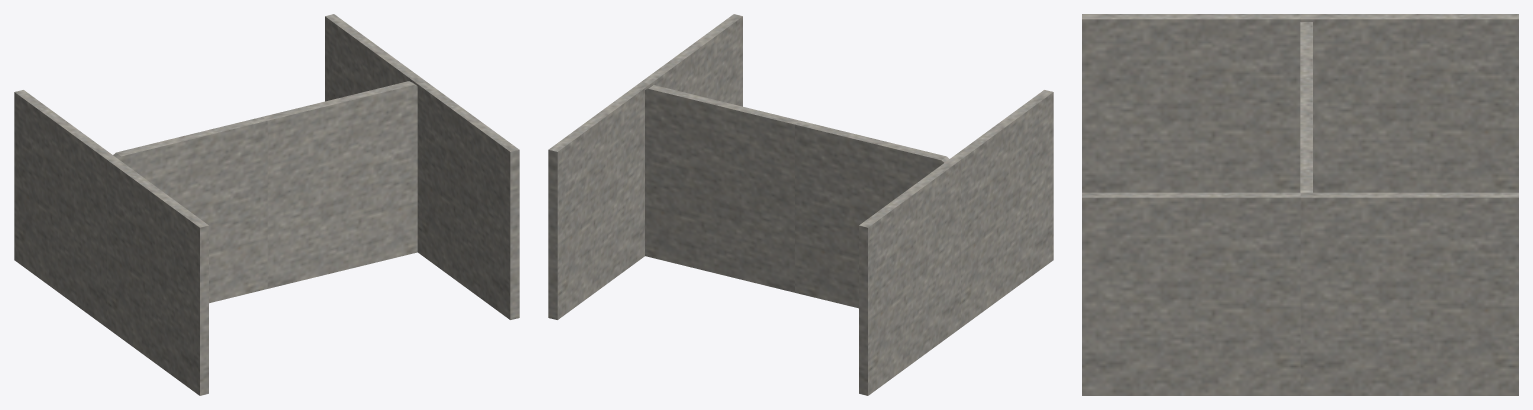
The model's file is divider_full_h.obj.
The picture shows the model from 3 angles, left to right: view 1: azimuth 30°, elevation 25°; view 2: azimuth 150°, elevation 25°; view 3: azimuth 270°, elevation 25°; orthographic projection. The views are drawn at different scales.
Visible parts, largest first — view 1: divider_full_h; view 2: divider_full_h; view 3: divider_full_h.
Boxes of the visible parts, box(x1,y1,x2,y2) form: divider_full_h: box(14, 14, 519, 395); divider_full_h: box(548, 14, 1053, 395); divider_full_h: box(1082, 14, 1518, 395).
Size of the model in its own units: 2.99 by 1.5 by 3.
